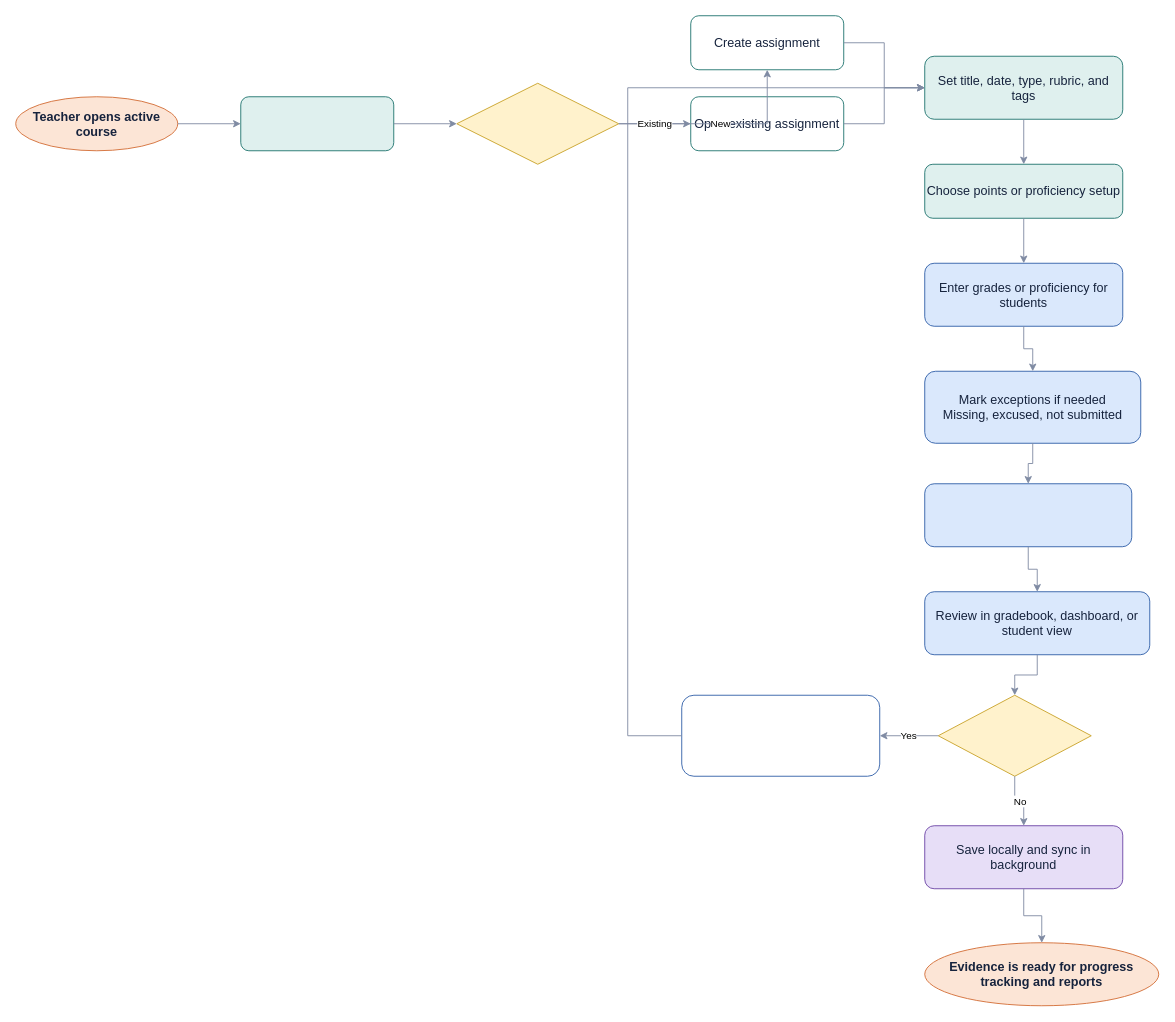
Image size: 1175x1022. Some labels were removed from this diagram. Here are the shapes that lost their labels. From the top down, the box of each, then its label:
(240, 96, 394, 151): Open assignments
(456, 82, 619, 164): New assignment or existing one?
(924, 483, 1132, 547): Add comments, feedback, or observations
(681, 694, 880, 776): Adjust assignment setup, grades, or comments
(937, 694, 1091, 776): Need revisions?
